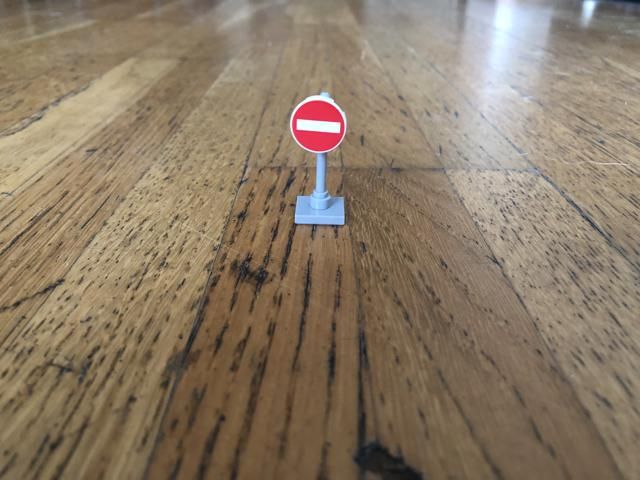verbot der einfahrt: (289, 94, 347, 156)
